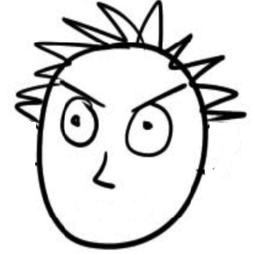eye: (119, 101, 177, 162), (60, 98, 100, 150)
frowning_eyebrow: (133, 77, 190, 113), (57, 80, 106, 107)
pointy_nose: (90, 148, 117, 193)
